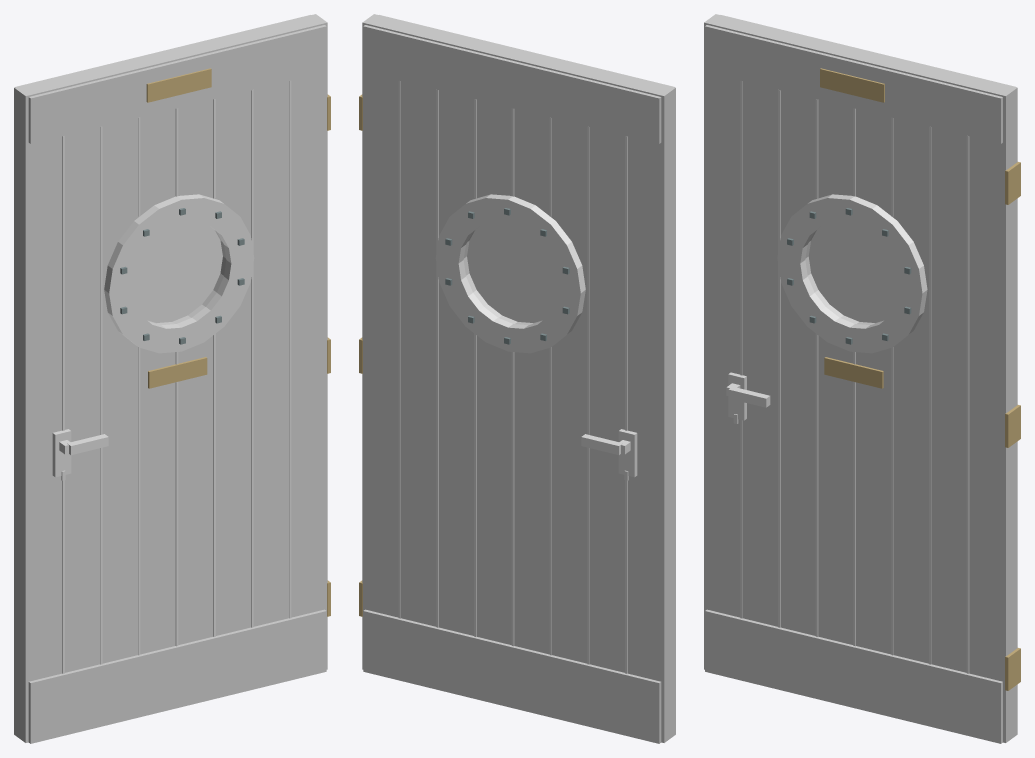
The model's file is kit_door_wood.fbx.
3 renders of one model, left to right at view 1: azimuth 30°, elevation 25°; view 2: azimuth 150°, elevation 25°; view 3: azimuth 330°, elevation 25°, orthographic.
Parts seen in each view (by area): view 1: kit_door_wood; view 2: kit_door_wood; view 3: kit_door_wood.
Part boxes in pixels (box(x1,y1,x2,y2)): kit_door_wood: box(14, 14, 330, 743); kit_door_wood: box(359, 14, 675, 743); kit_door_wood: box(704, 14, 1020, 743).
Bounding box in the file's own units: 1.05 × 2.13 × 0.194.
